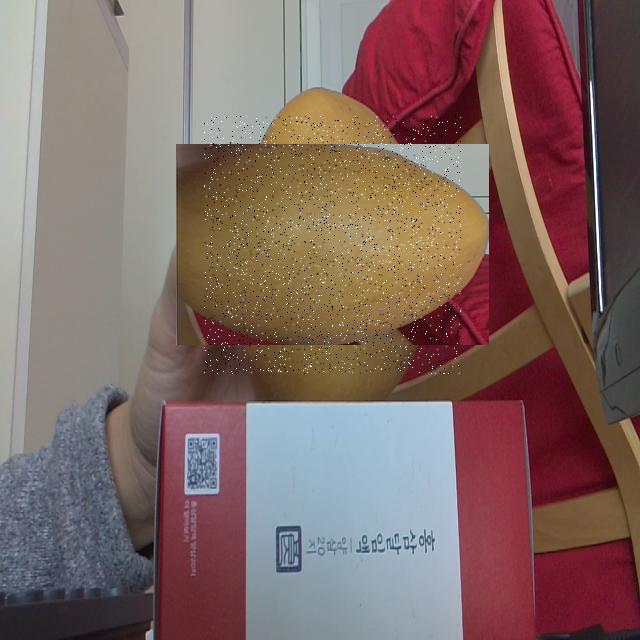pear: (204, 116, 461, 374)
